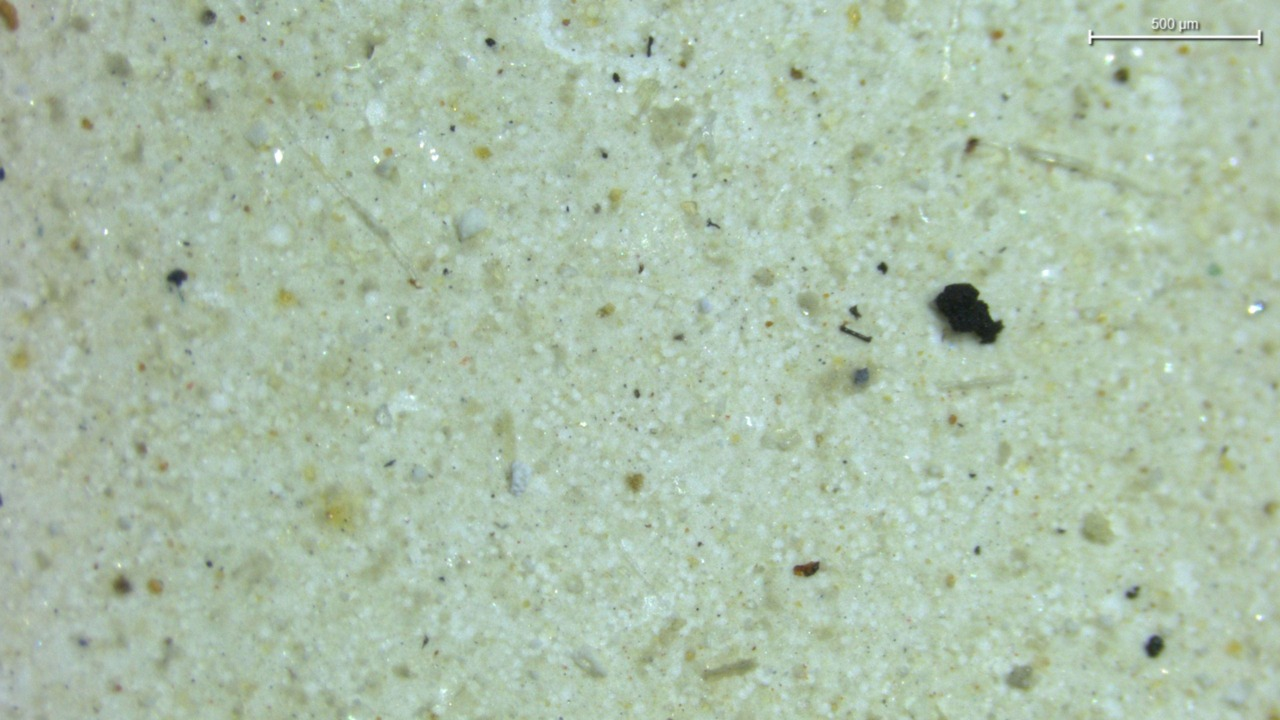microplastic_fragment: (934, 283, 1003, 343), (457, 208, 488, 240), (509, 460, 532, 496), (245, 121, 270, 149), (697, 298, 713, 314)
